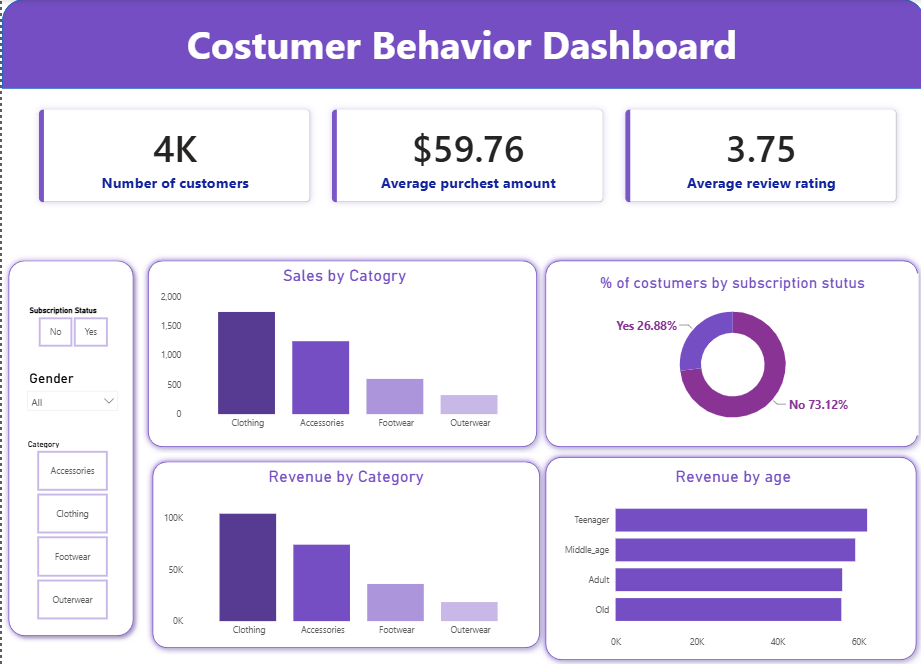

Layout of this report page (visuals, bound fields, positions):
{"tool":"powerbi","page":{"name":"Dashboard","canvas":[1280,926],"ordinal":0},"visuals":[{"type":"cardVisual","fields":{"Data":["customer_behivior customer.Number of customer","customer_behivior customer.Average purchest amount","customer_behivior customer.Average review rating"]},"box":[22.9,125,1247.4,185.3],"z":0},{"type":"shape","box":[0,0,1280.8,124.7],"z":1000},{"type":"textbox","box":[77.7,21,1123.7,84.2],"z":2000},{"type":"shape","box":[745.5,354,535.2,277],"z":3000},{"type":"donutChart","title":"% of costumers by subscription stutus","fields":{"Category":["customer_behivior customer.subscription_status"],"Y":["Sum(customer_behivior customer.purchase_amount)"]},"box":[756,381.1,516.5,224.9],"z":4000},{"type":"shape","box":[199.9,633.1,556,277],"z":5000},{"type":"shape","box":[193.7,354,558.1,277],"z":6000},{"type":"clusteredColumnChart","title":"Revenue by Category","fields":{"Y":["Sum(customer_behivior customer.purchase_amount)"],"Category":["customer_behivior customer.category"]},"box":[218.7,649.7,518.5,243.7],"z":7000},{"type":"clusteredColumnChart","title":"Sales by Catogry","fields":{"Category":["customer_behivior customer.category"],"Y":["CountNonNull(customer_behivior customer.customer_id)"]},"box":[214.5,370.7,522.7,235.3],"z":8000},{"type":"shape","box":[0,354,191.6,539.4],"z":9000},{"type":"slicer","fields":{"Values":["customer_behivior customer.subscription_status"]},"box":[25,420.7,145.8,68.7],"z":10000},{"type":"slicer","fields":{"Values":["customer_behivior customer.gender"]},"box":[25,510.2,145.8,79.1],"z":11000},{"type":"slicer","fields":{"Values":["customer_behivior customer.category"]},"box":[22.9,606,147.9,262.4],"z":12000},{"type":"shape","box":[745.5,626.8,533.1,299.9],"z":13000},{"type":"clusteredBarChart","title":"Revenue by age","fields":{"Y":["Sum(customer_behivior customer.purchase_amount)"],"Category":["customer_behivior customer.age_groups"]},"box":[770.5,649.7,489.4,260.3],"z":14000}]}

Visuals, with their boxes in screenshot pixels (x1, y1, x2, y2), scaled from the page's 1280x926 canvas onto the 921x664 screenshot:
cardVisual - customer_behivior customer.Number of customer x customer_behivior customer.Average purchest amount: bbox=(16, 90, 914, 223)
shape: bbox=(0, 0, 920, 89)
textbox: bbox=(56, 15, 864, 75)
shape: bbox=(536, 254, 920, 452)
"% of costumers by subscription stutus" donutChart: bbox=(544, 273, 916, 435)
shape: bbox=(144, 454, 544, 653)
shape: bbox=(139, 254, 541, 452)
"Revenue by Category" clusteredColumnChart: bbox=(157, 466, 530, 641)
"Sales by Catogry" clusteredColumnChart: bbox=(154, 266, 530, 435)
shape: bbox=(0, 254, 138, 641)
slicer - customer_behivior customer.subscription_status: bbox=(18, 302, 123, 351)
slicer - customer_behivior customer.gender: bbox=(18, 366, 123, 423)
slicer - customer_behivior customer.category: bbox=(16, 435, 123, 623)
shape: bbox=(536, 449, 920, 663)
"Revenue by age" clusteredBarChart: bbox=(554, 466, 907, 653)
